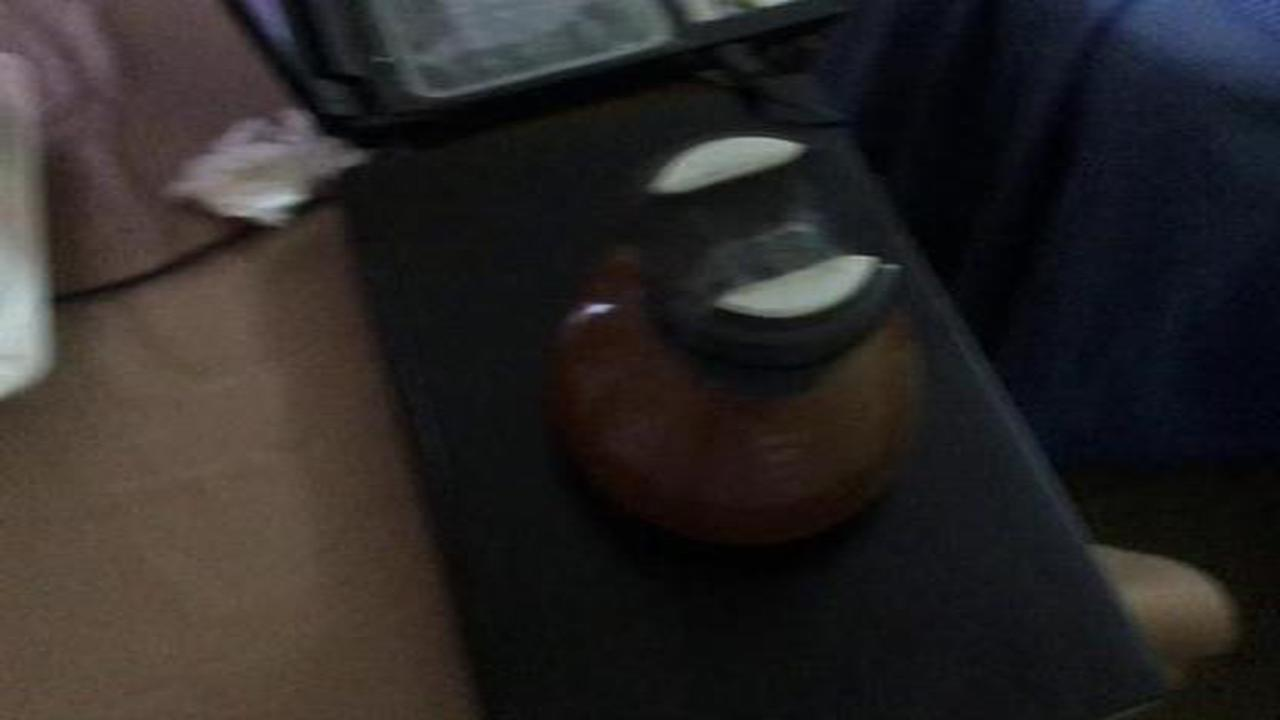insulator_pin: (527, 127, 964, 572)
